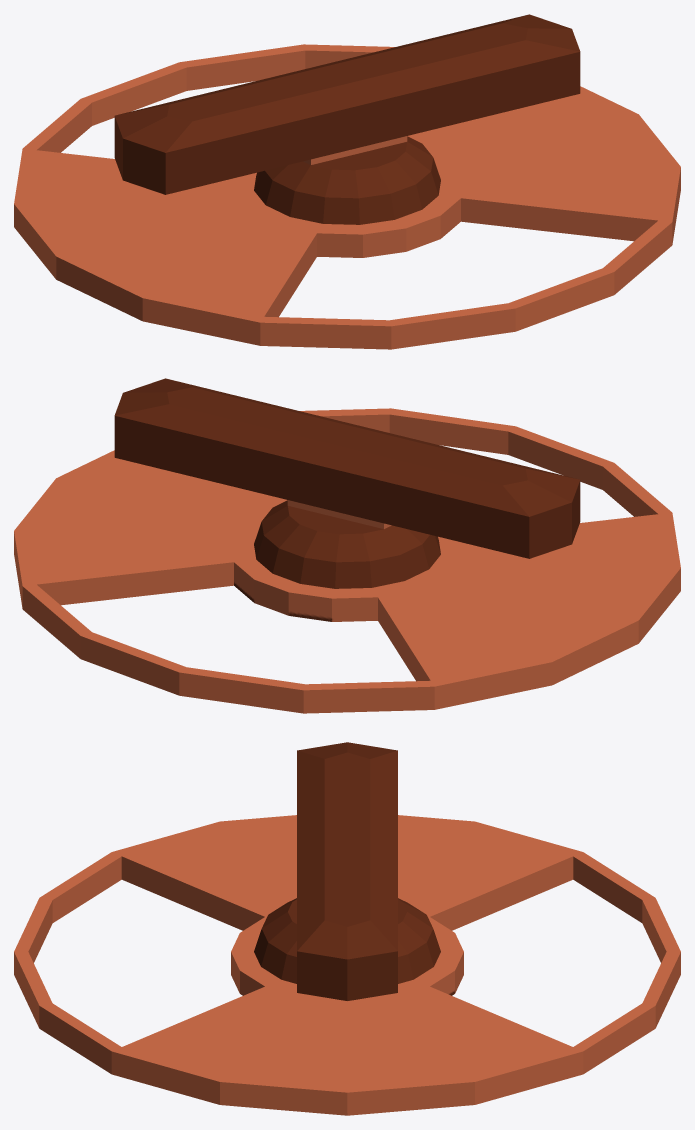
The model's file is puzzle1_btn3_top.fbx.
The picture shows the model from 3 angles, top to bottom: view 1: azimuth 30°, elevation 25°; view 2: azimuth 150°, elevation 25°; view 3: azimuth 270°, elevation 25°; orthographic projection.
Visible parts, largest first — view 1: levelTop; view 2: levelTop; view 3: levelTop.
Part boxes in pixels (x1=…): levelTop: x1=14, y1=14, x2=680, y2=349; levelTop: x1=14, y1=378, x2=680, y2=713; levelTop: x1=14, y1=742, x2=680, y2=1115.
Bounding box in the file's own units: 2.48 × 0.5553 × 2.48.
